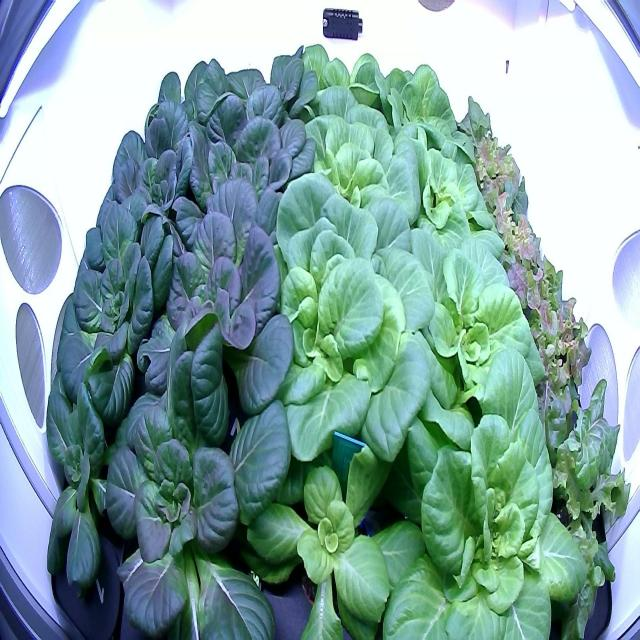Ready: (352, 330, 595, 640), (246, 160, 448, 480), (124, 194, 300, 431), (386, 224, 552, 446), (41, 187, 186, 440), (275, 82, 431, 256), (84, 78, 209, 275), (184, 97, 321, 259), (364, 123, 506, 268), (194, 30, 326, 179), (126, 40, 241, 193), (360, 42, 478, 186), (264, 27, 390, 153)
young: (89, 342, 302, 640), (233, 414, 434, 640), (34, 317, 170, 636)
